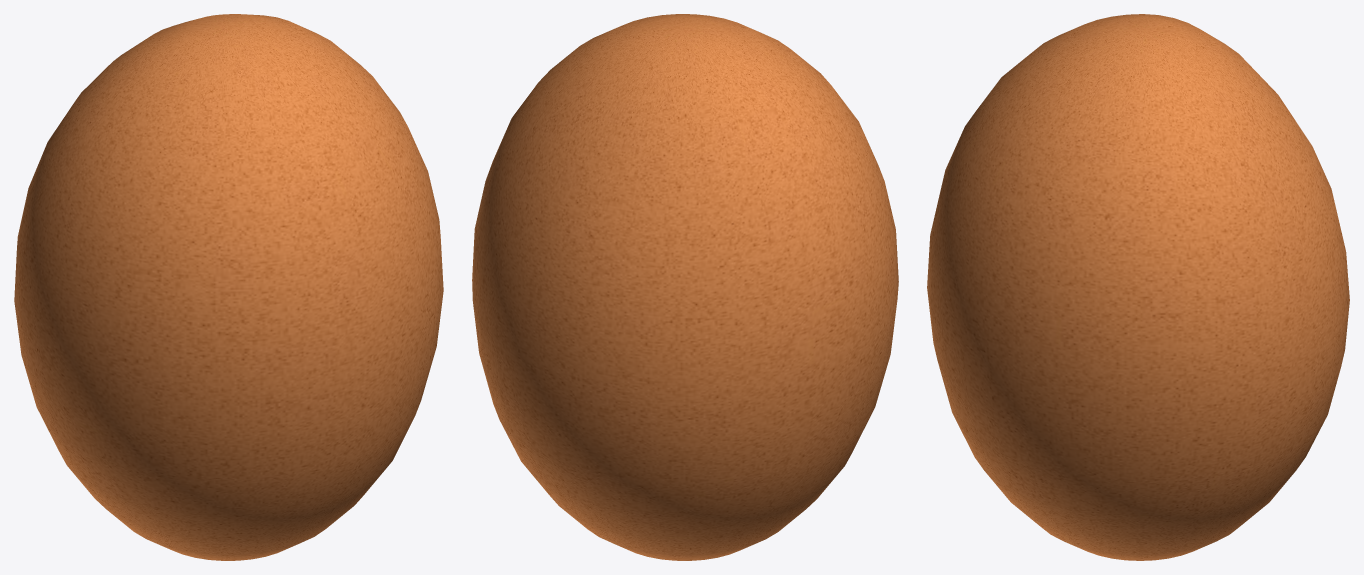
Rendered from egg.glb.
The picture shows the model from 3 angles, left to right: view 1: azimuth 30°, elevation 25°; view 2: azimuth 150°, elevation 25°; view 3: azimuth 270°, elevation 25°; orthographic projection.
Parts seen in each view (by area): view 1: Sphere; view 2: Sphere; view 3: Sphere.
Part boxes in pixels (x1,y1,x2,y2): Sphere: (14,14,443,560); Sphere: (472,14,898,560); Sphere: (927,14,1349,560).
Size of the model in its own units: 1.52 by 2 by 1.49.
Materials: 1 (1 with a texture image).
